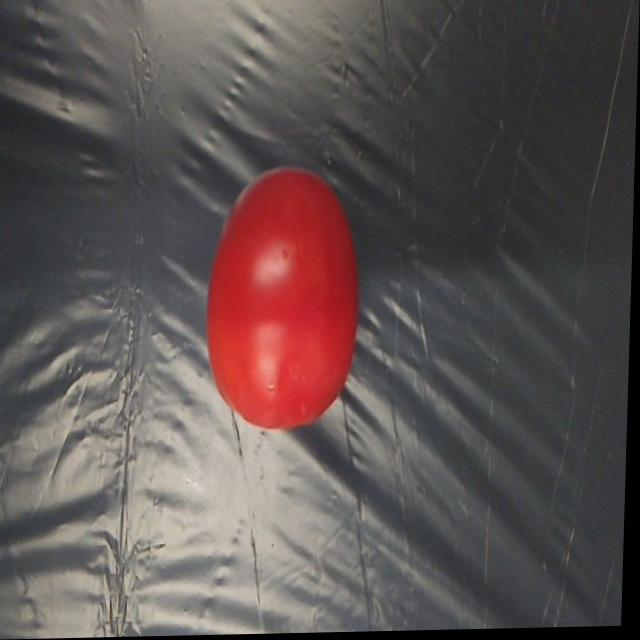kirmizi: (202, 161, 380, 452)
